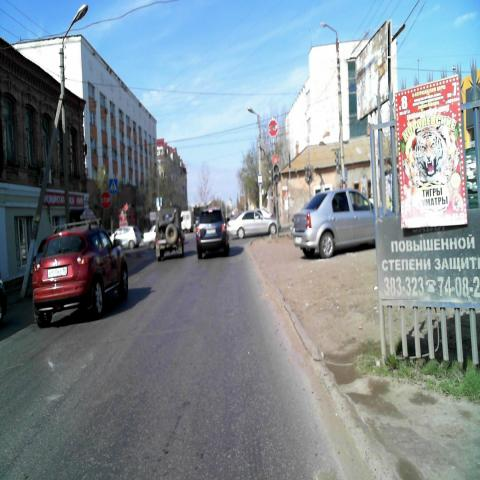2_5: (268, 120, 278, 138)
